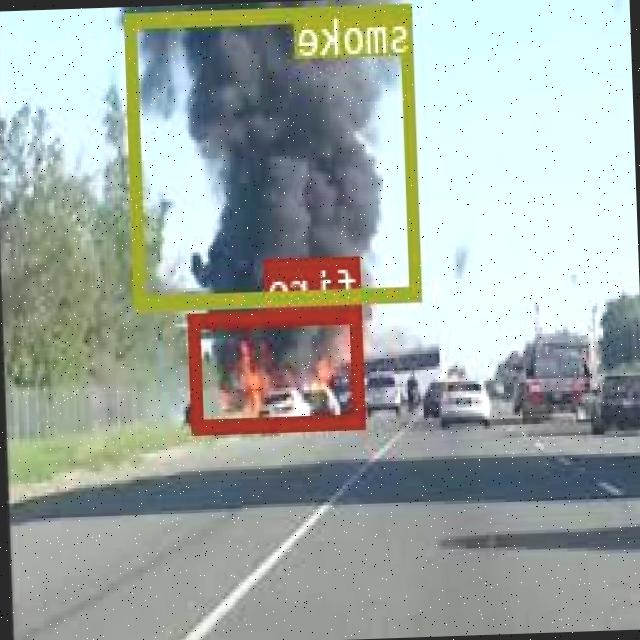fire: (190, 304, 368, 430)
smoke: (126, 3, 424, 306)
